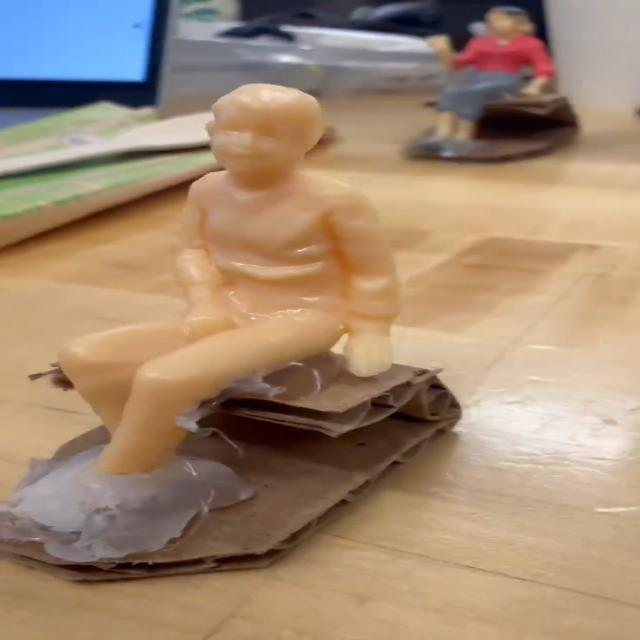Unauthorized: (65, 79, 395, 472)
